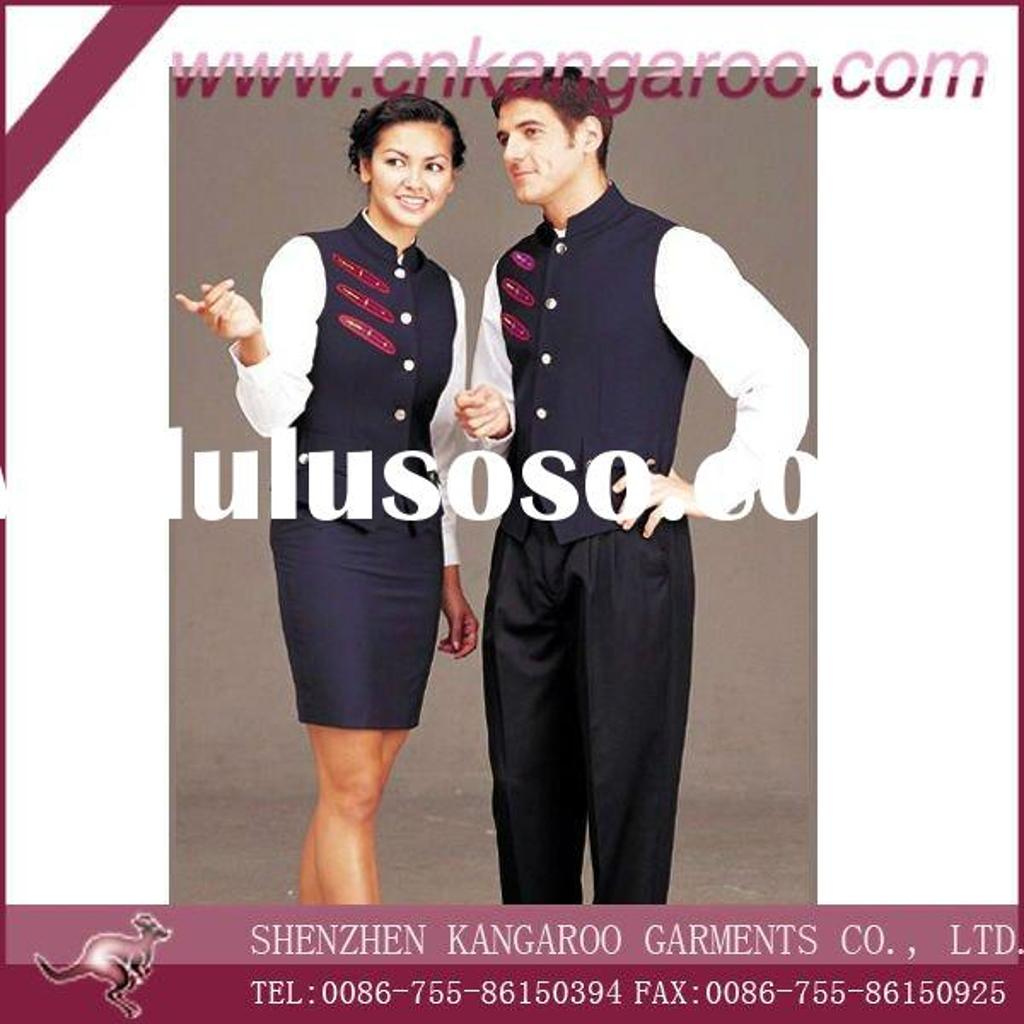face: (498, 96, 582, 202), (368, 122, 452, 226)
